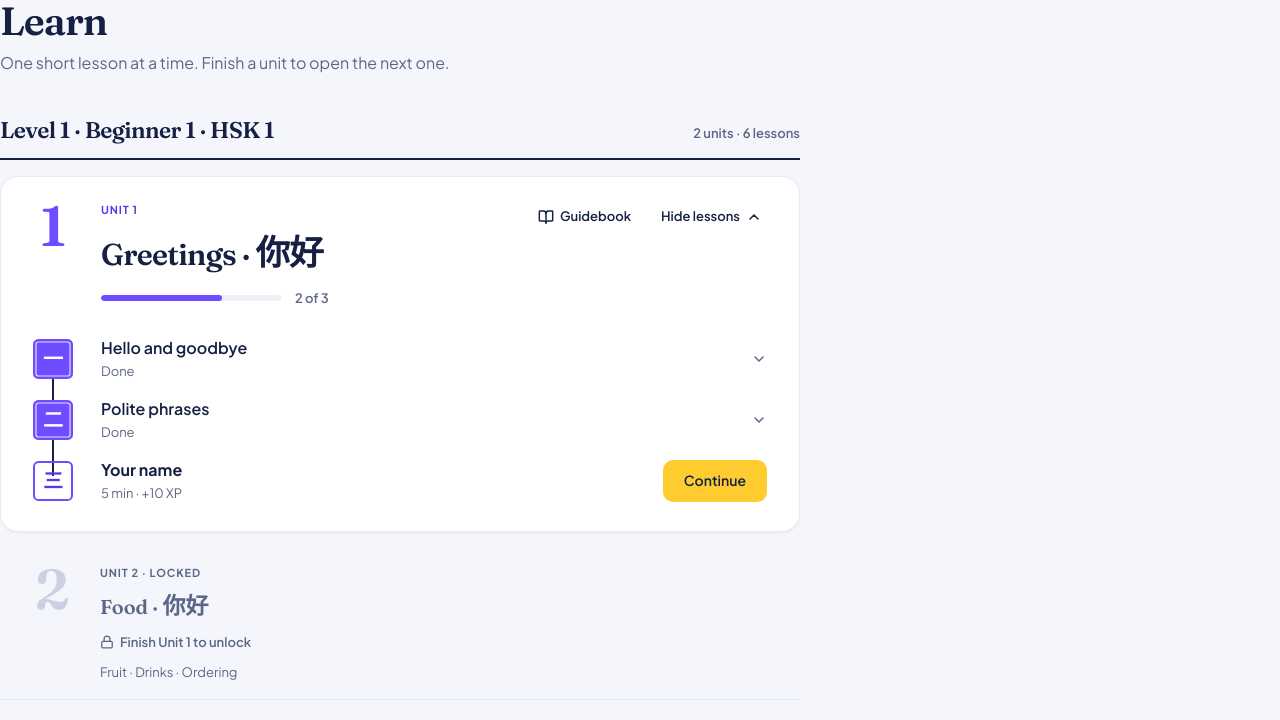
Scenario: StudentLearnPage (Learn path) › opens the unit guidebook with its key phrases and tips
Click the button with test id "guidebook-1": (585, 217) [525,201,644,233]
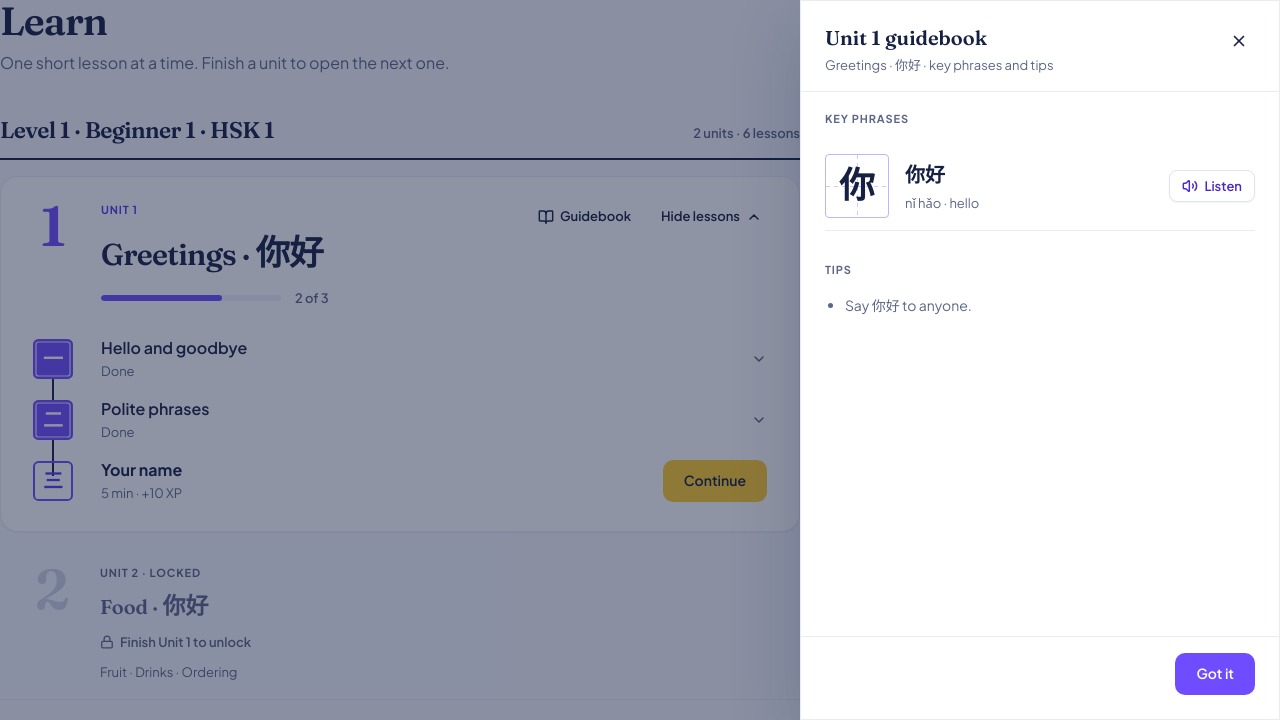
Check: the dialog with test id "guidebook" shows "nǐ hǎo · hello", box [905,195,979,211]
Check: the dialog with test id "guidebook" shows "Say 你好 to anyone.", box [845,296,972,314]
